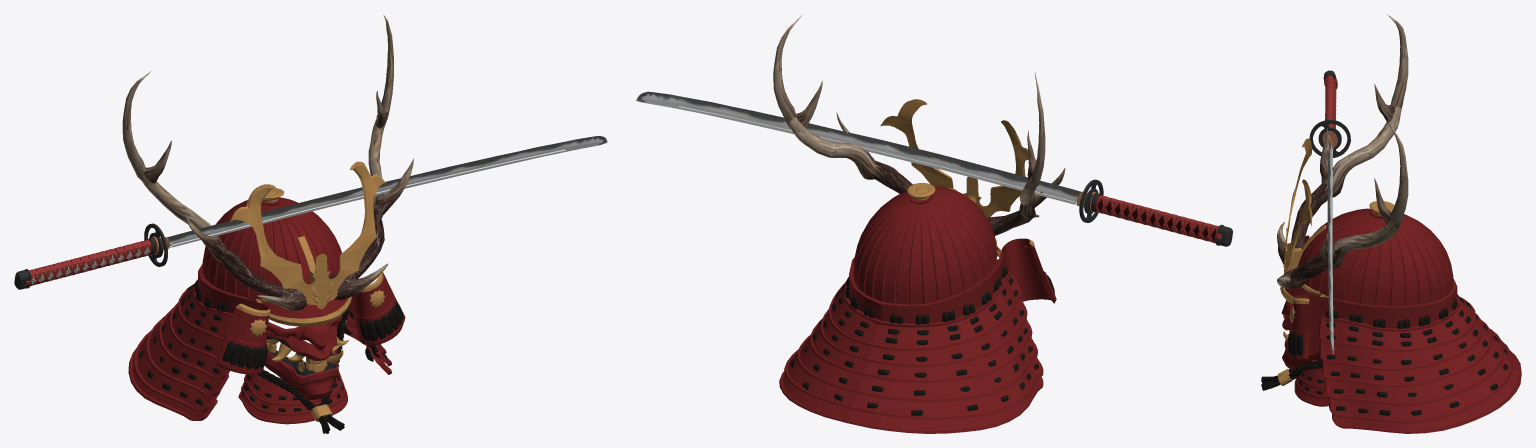
The model's file is kabuto_katana-transformed.glb.
3 views of the same model, side by side, from view 1: azimuth 30°, elevation 25°; view 2: azimuth 150°, elevation 25°; view 3: azimuth 270°, elevation 25° (orthographic). The views are drawn at different scales.
Parts seen in each view (by area): view 1: Mascara_Metal_rojo_0, Hastas_hastas_0, Mascara_Oro_0, Tejido_lambert3_0, polySurface1_Oro_solapas_0, pasted__hoja_Acero_0, pasted__tsuba_blinn5_0; view 2: Mascara_Metal_rojo_0, Tejido_lambert3_0, pasted__hoja_Acero_0, Hastas_hastas_0, polySurface1_Oro_solapas_0, Mascara_Oro_0, pasted__tsuba_blinn5_0; view 3: Mascara_Metal_rojo_0, Hastas_hastas_0, polySurface1_Oro_solapas_0, Tejido_lambert3_0, Mascara_Oro_0, pasted__hoja_Acero_0, pasted__tsuba_blinn5_0.
Boxes of the visible parts, bbox=[...] form: Mascara_Metal_rojo_0: bbox=[128, 197, 391, 424]; Hastas_hastas_0: bbox=[122, 15, 413, 310]; Mascara_Oro_0: bbox=[229, 161, 386, 421]; Tejido_lambert3_0: bbox=[25, 239, 403, 433]; polySurface1_Oro_solapas_0: bbox=[198, 264, 405, 374]; pasted__hoja_Acero_0: bbox=[167, 136, 607, 248]; pasted__tsuba_blinn5_0: bbox=[14, 223, 170, 289]; Mascara_Metal_rojo_0: bbox=[779, 186, 1043, 433]; Tejido_lambert3_0: bbox=[790, 195, 1221, 415]; pasted__hoja_Acero_0: bbox=[636, 91, 1081, 205]; Hastas_hastas_0: bbox=[773, 14, 1065, 235]; polySurface1_Oro_solapas_0: bbox=[849, 238, 1056, 323]; Mascara_Oro_0: bbox=[880, 99, 1036, 246]; pasted__tsuba_blinn5_0: bbox=[1076, 179, 1232, 246]; Mascara_Metal_rojo_0: bbox=[1281, 208, 1521, 433]; Hastas_hastas_0: bbox=[1277, 14, 1408, 288]; polySurface1_Oro_solapas_0: bbox=[1280, 235, 1457, 361]; Tejido_lambert3_0: bbox=[1261, 75, 1507, 415]; Mascara_Oro_0: bbox=[1278, 138, 1394, 385]; pasted__hoja_Acero_0: bbox=[1327, 139, 1334, 354]; pasted__tsuba_blinn5_0: bbox=[1309, 70, 1350, 157].
Size of the model in its own units: 35.24 by 19.45 by 14.33.
9 materials, 8 textured.
